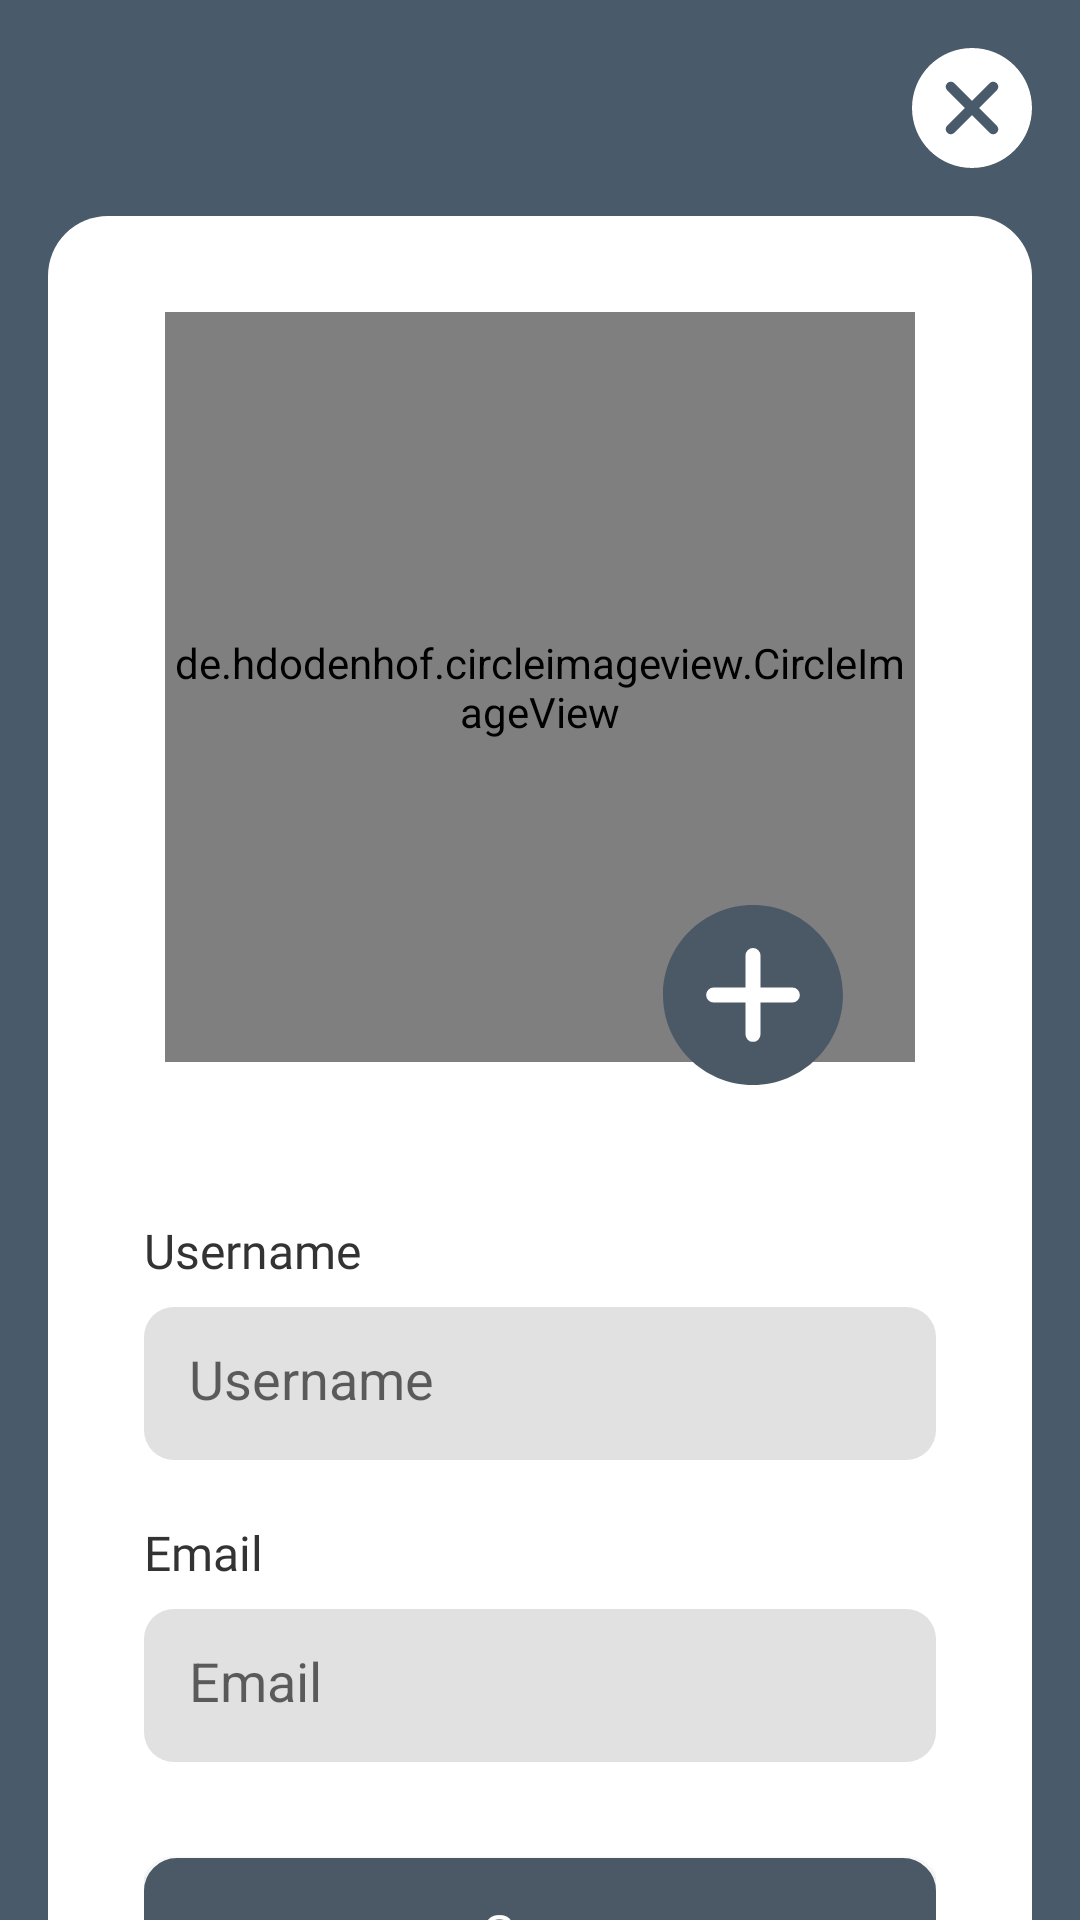

Point at icon controls on the screen. Image size 1080 × 1920, points as [x,y].
but plus: [753,995]
close: [972,108]
